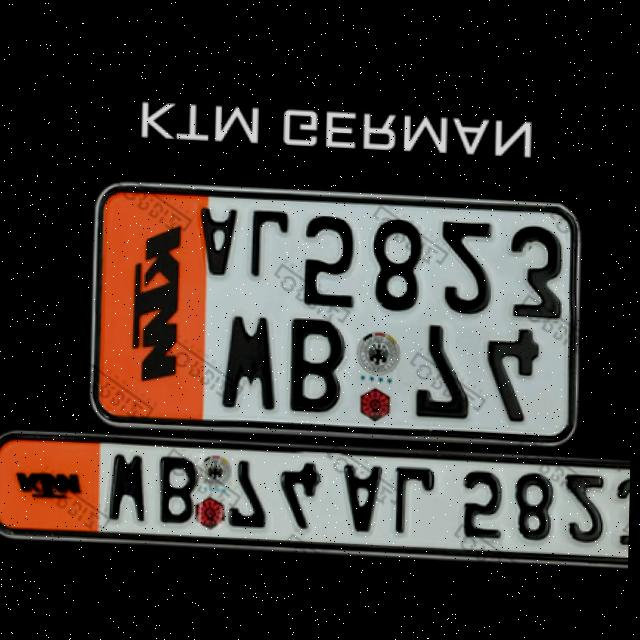plate: (88, 175, 586, 442), (0, 428, 633, 564)
